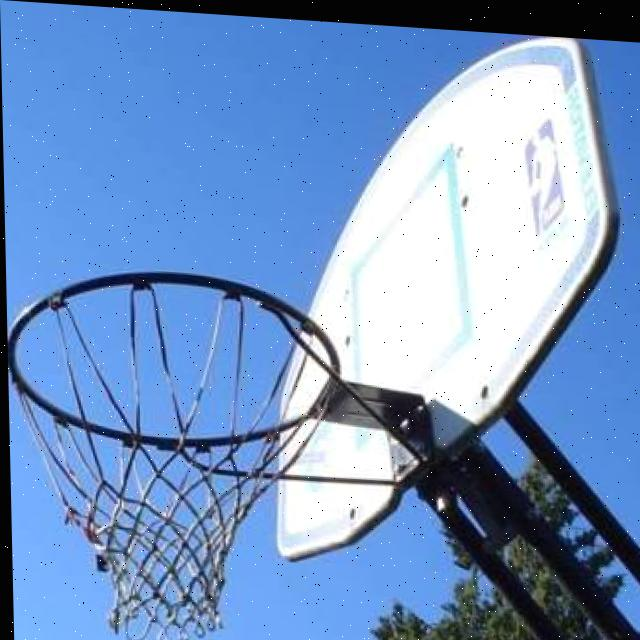hoop: (9, 238, 444, 640)
